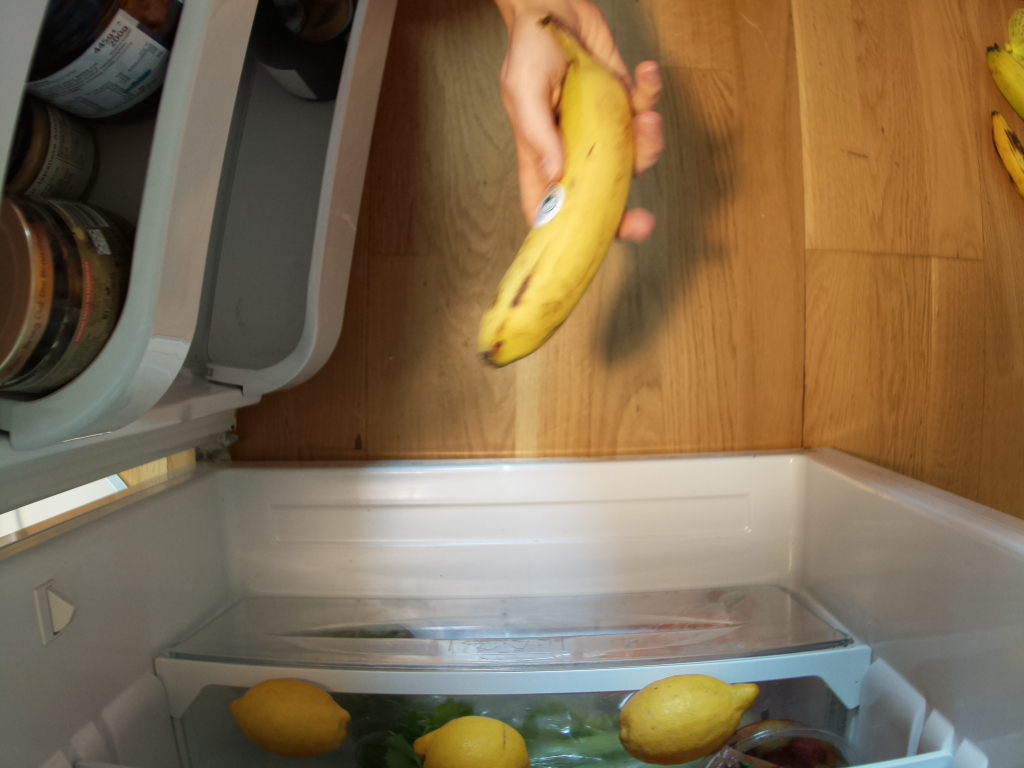banana: (473, 14, 640, 370)
